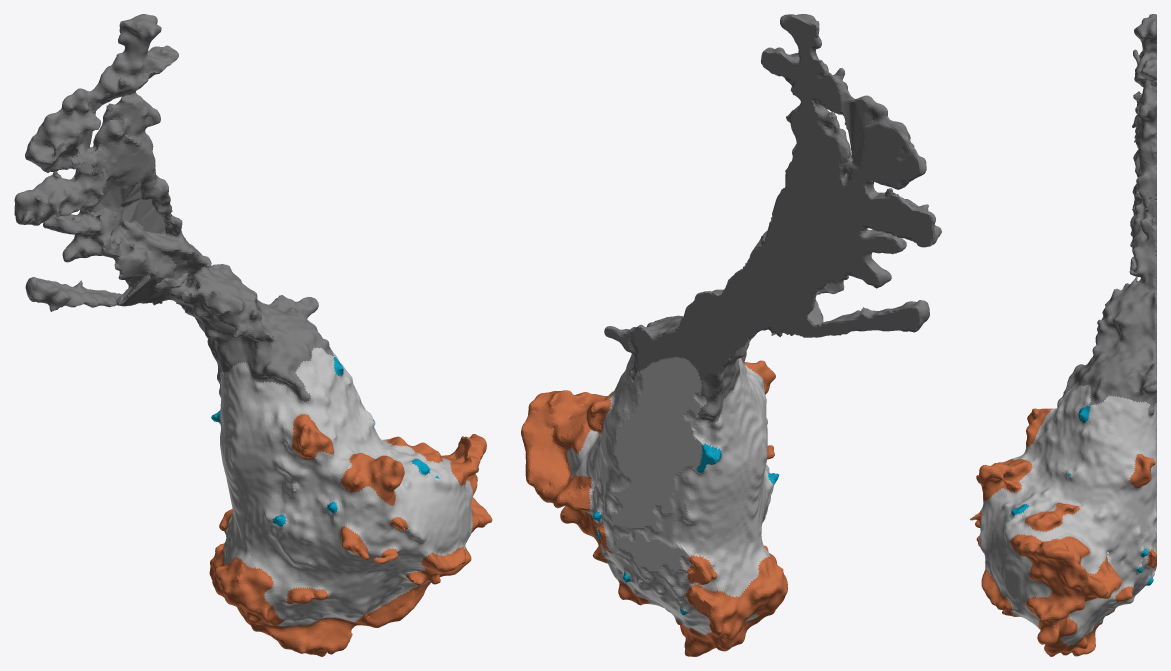
3 views of the same model, side by side, from view 1: azimuth 30°, elevation 25°; view 2: azimuth 150°, elevation 25°; view 3: azimuth 270°, elevation 25° (orthographic). The views are drawn at different scales.
Size of the model in its own units: 193 by 285 by 83.77.
